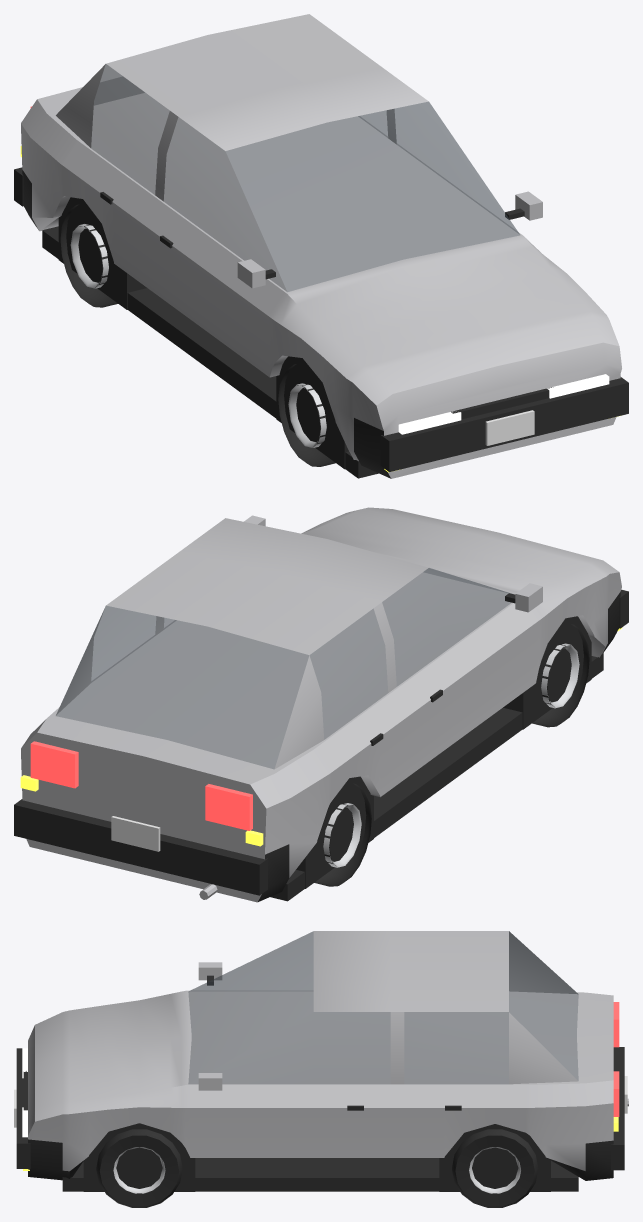
The model's file is hatch.glb.
The picture shows the model from 3 angles, top to bottom: view 1: azimuth 30°, elevation 25°; view 2: azimuth 150°, elevation 25°; view 3: azimuth 270°, elevation 25°; orthographic projection. The views are drawn at different scales.
Parts seen in each view (by area): view 1: body, wheel_rl, wheel_fl; view 2: body, wheel_fl, wheel_rl; view 3: body, wheel_rr, wheel_fr.
Part boxes in pixels (x1,y1,x2,y2): body: (14,14,628,478); wheel_rl: (60,204,117,307); wheel_fl: (278,364,335,466); body: (14,507,628,902); wheel_fl: (532,624,589,727); wheel_rl: (314,783,371,886); body: (14,931,628,1191); wheel_rr: (452,1129,538,1207); wheel_fr: (96,1129,182,1207).
Bounding box in the file's own units: 1.97 × 1.5 × 4.41.
